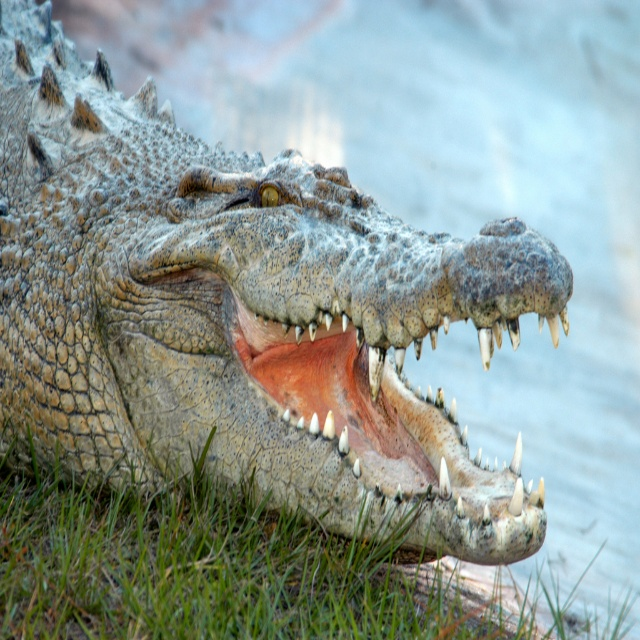Crocodile: (0, 0, 573, 566)
